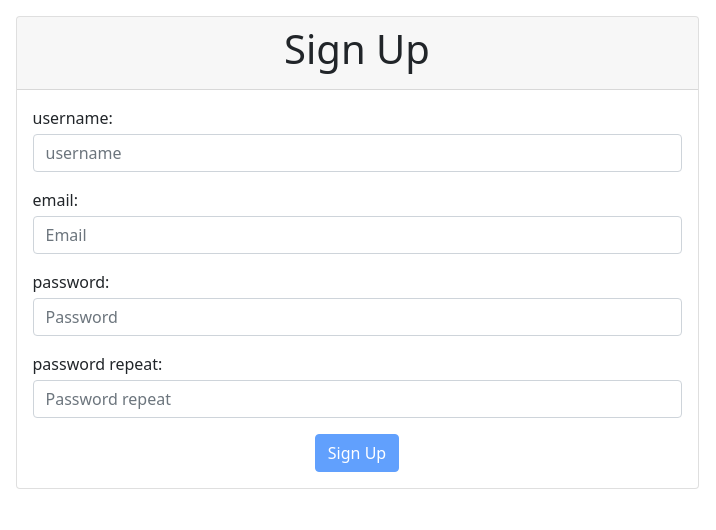
Sign Up Page › Interactions › displays Email cannot be null error for email
The image size is (716, 530).
Type "devAmirHemmati" into the field labelled "username:". click: point(357, 153)
box: [32, 134, 682, 172]
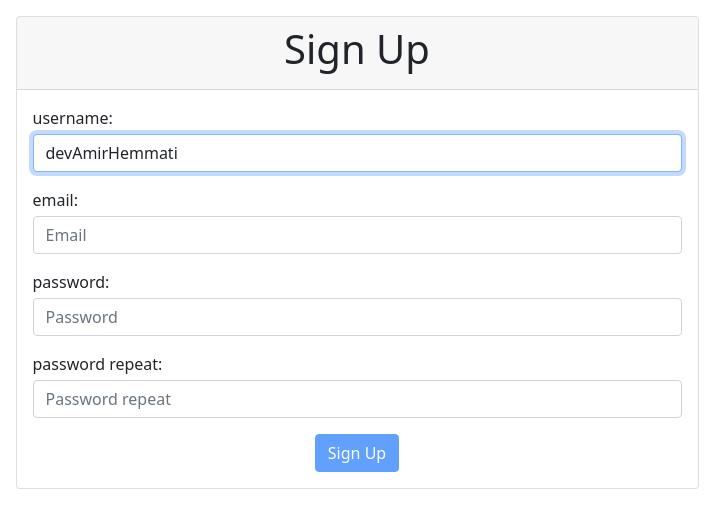
Type "dev.amirhemmati1382@gmail.com" into the field labelled "email:". click: point(357, 235)
box: [32, 216, 682, 254]
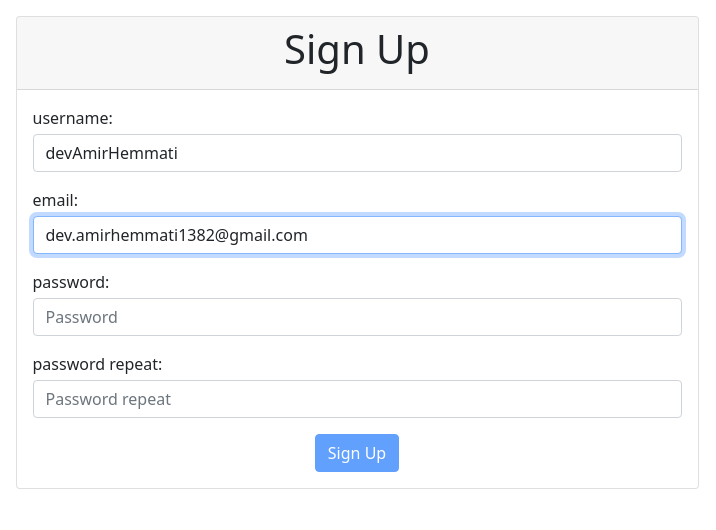
Type "myPass" into the password field labelled "password:". click: point(357, 317)
box: [32, 298, 682, 336]
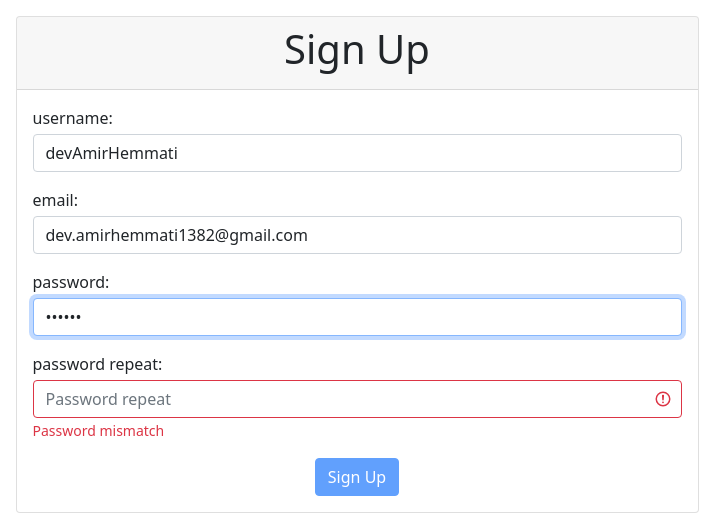
Type "myPass" into the password field labelled "password repeat:". click: point(357, 399)
box: [32, 380, 682, 418]
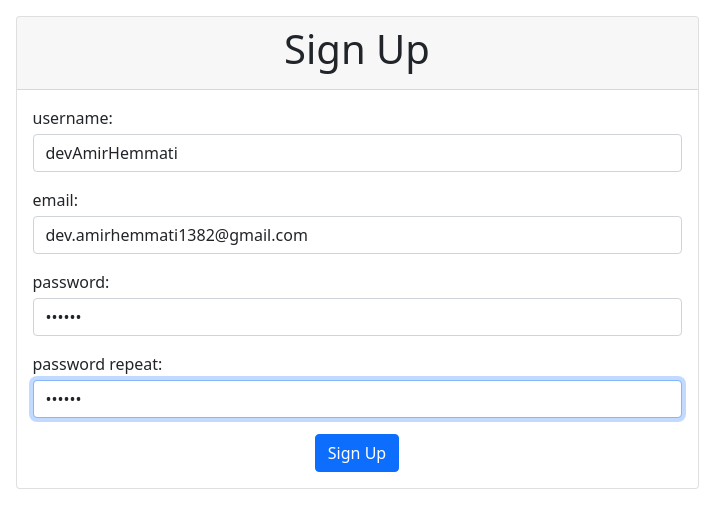
Click the button "Sign Up". click: point(357, 453)
box: [315, 434, 399, 472]
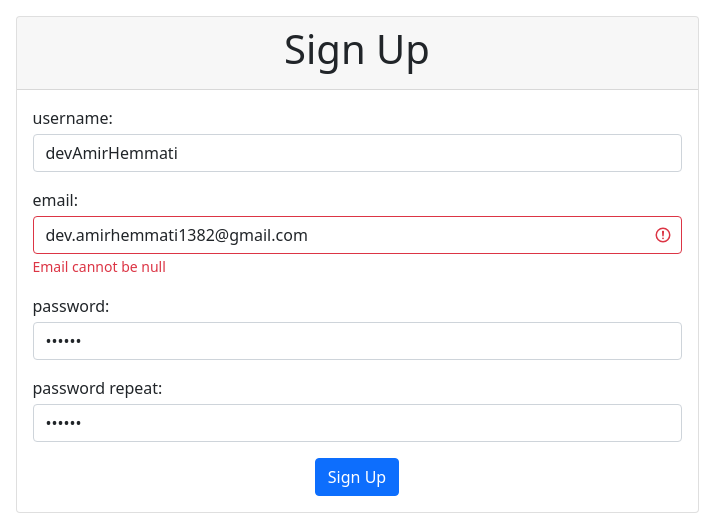
expect the text "Email cannot be null" is shown: met, box [32, 257, 166, 276]
